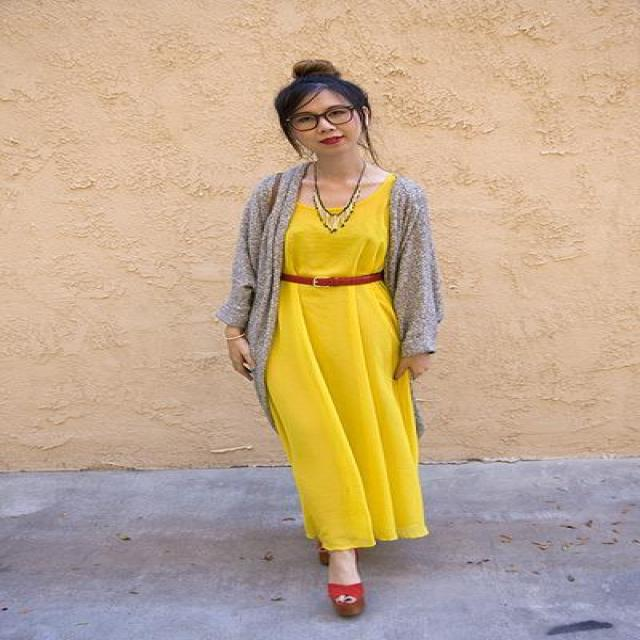dress: (267, 195, 426, 560)
jacket: (228, 173, 454, 368)
shoe: (317, 547, 363, 620)
